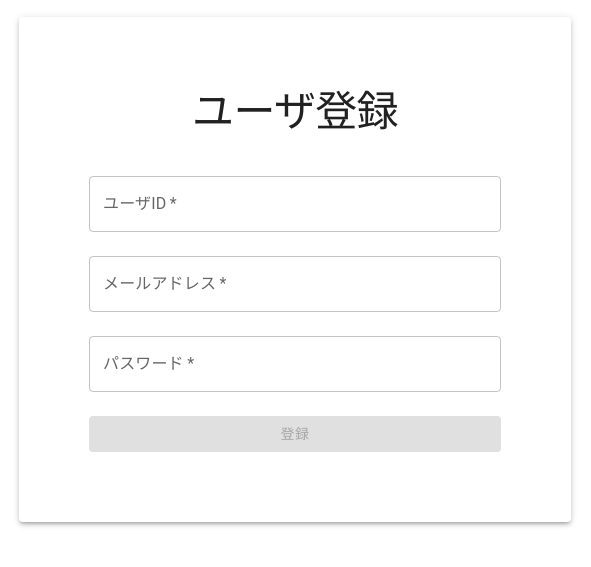
Test: SignupComponent › 異常系 › バリデーション › メールアドレス › メールアドレスに不正な形式の入力でバリデーションエラーが発生すること
This screenshot has width=591, height=567.
Type "test@example" into the field labelled "メールアドレス *" at {"x": 295, "y": 284}, box [89,256,501,312]
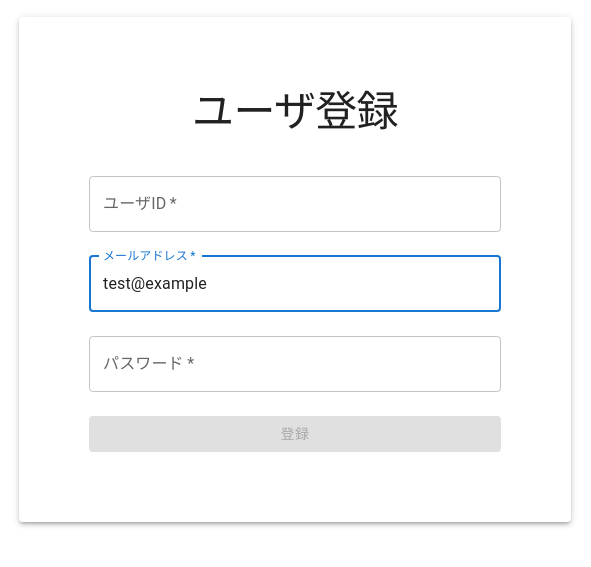
Press Tab
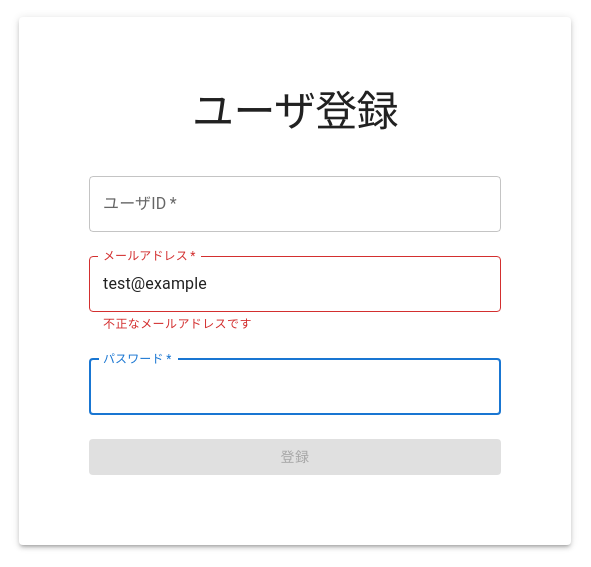
Expected: the text "不正なメールアドレスです" is shown, [103,317,252,331]
